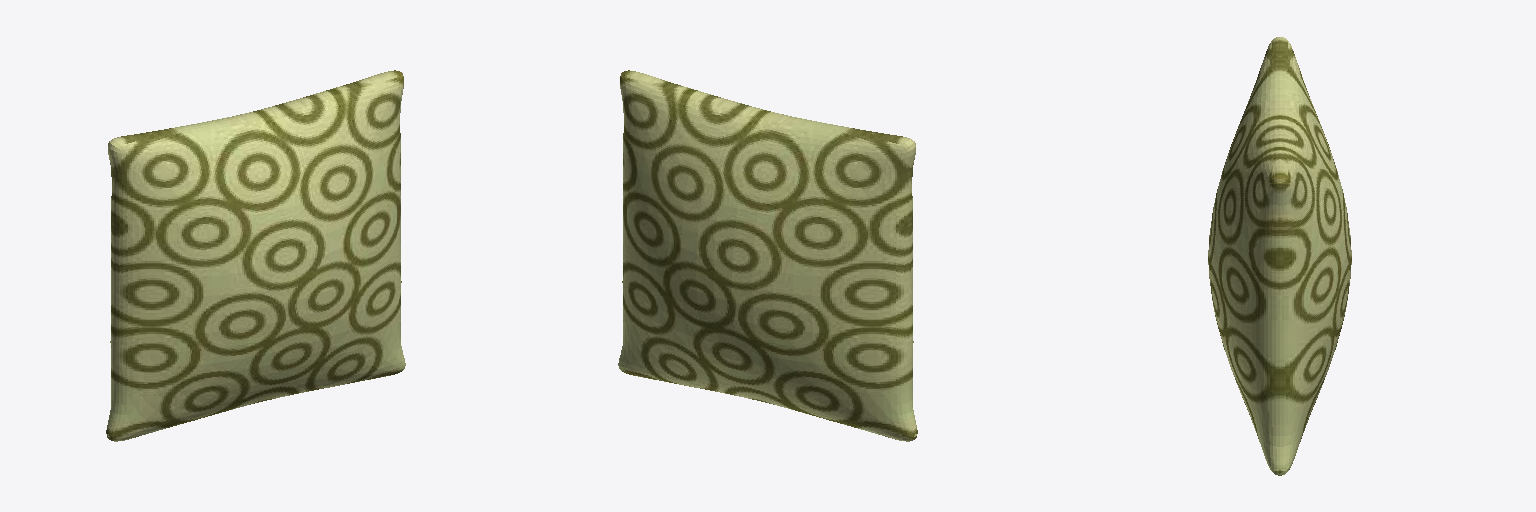
3 renders of one model, left to right at view 1: azimuth 30°, elevation 25°; view 2: azimuth 150°, elevation 25°; view 3: azimuth 270°, elevation 25°, orthographic.
Parts seen in each view (by area): view 1: PolyMesh_1; view 2: PolyMesh_1; view 3: PolyMesh_1.
Part boxes in pixels (x1,y1,x2,y2): PolyMesh_1: (106,70,405,441); PolyMesh_1: (618,70,917,441); PolyMesh_1: (1208,37,1351,475).
Bounding box in the file's own units: 1 × 0.972 × 0.4199.
Materials: 1 (1 with a texture image).